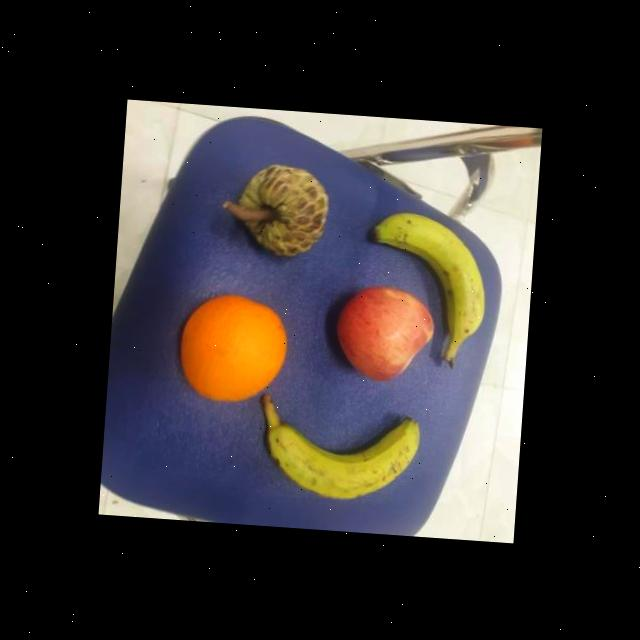Sakya fruit: (230, 156, 336, 263)
apple: (326, 277, 438, 388)
banana: (362, 205, 498, 364), (256, 403, 428, 511)
orange: (172, 290, 294, 406)
